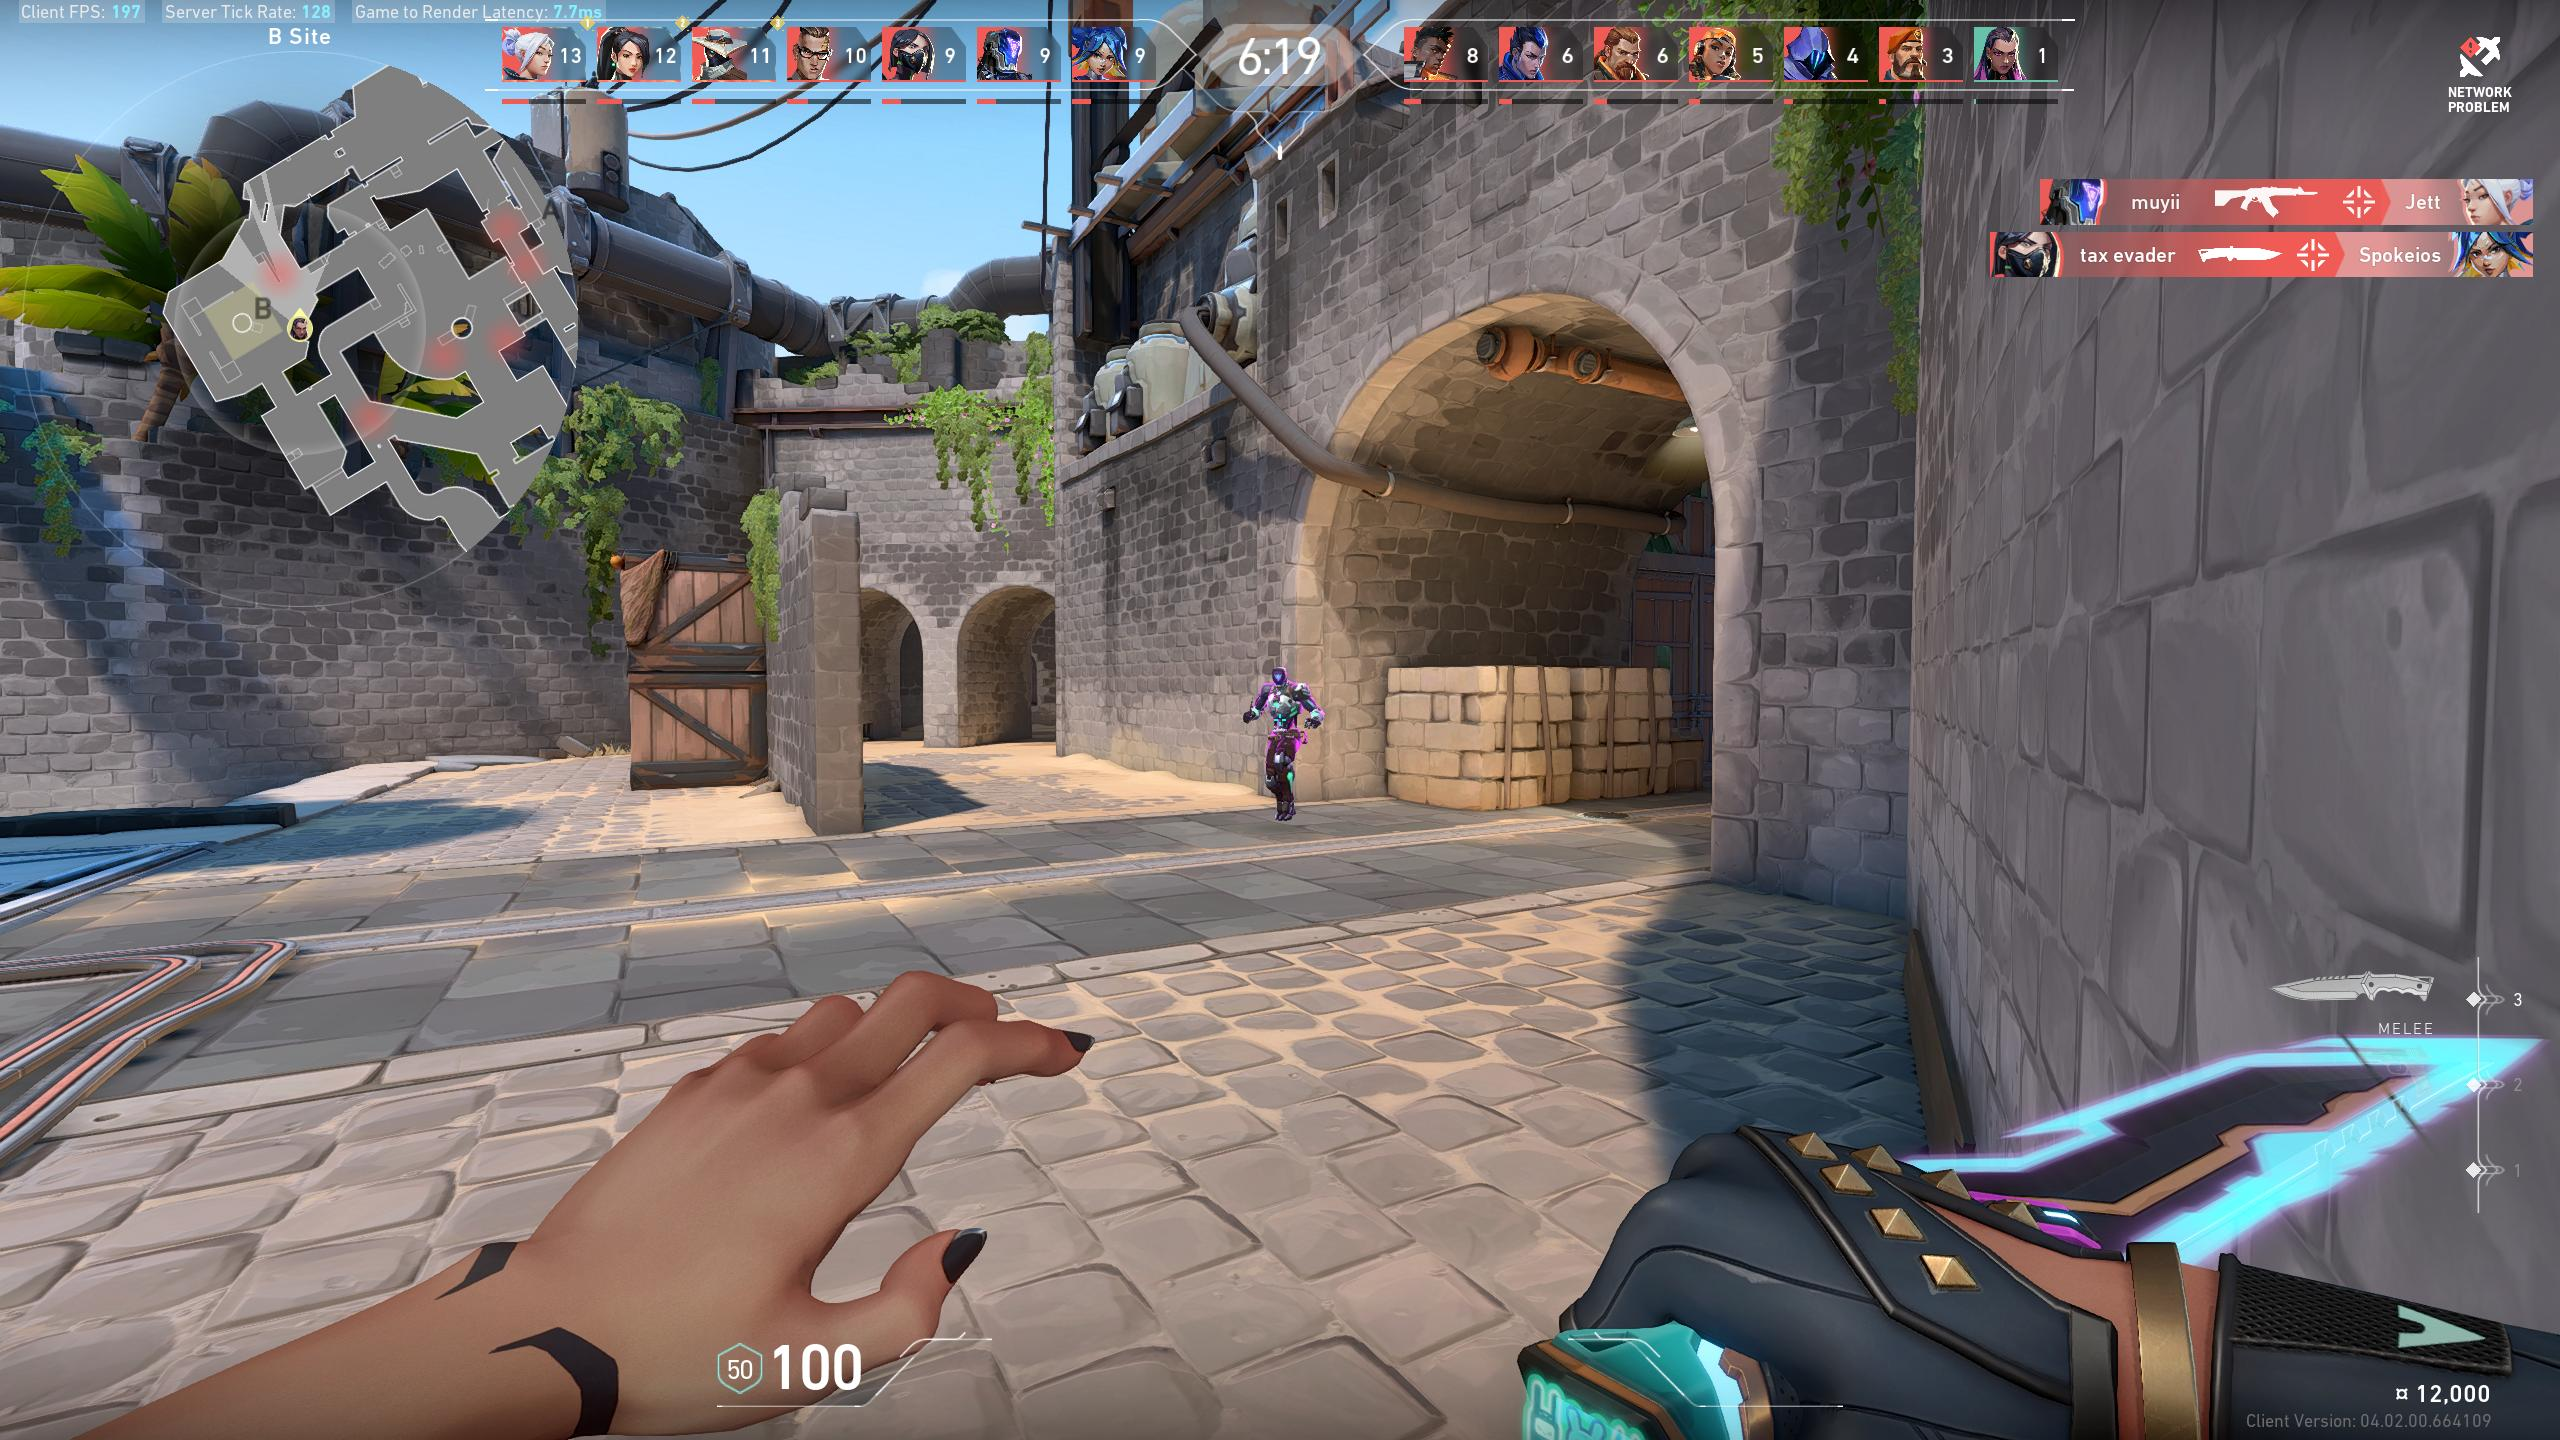enemyBody: (1273, 687, 1292, 714)
enemyHead: (1273, 672, 1284, 682)
